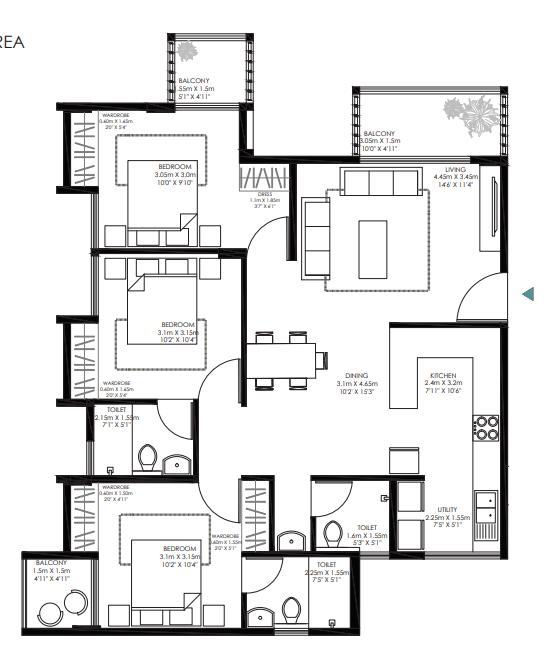Balcony: (357, 92, 502, 157), (24, 557, 98, 629), (173, 35, 243, 102)
Bed: (127, 537, 203, 628), (125, 256, 196, 343), (130, 160, 194, 244)
Bedroom: (99, 481, 241, 630), (100, 107, 241, 251), (99, 255, 237, 400)
Dining Room: (250, 319, 389, 419)
Dining table: (246, 319, 337, 405)
Kitchen: (390, 332, 501, 471)
Living Room: (297, 165, 505, 319)
Sofa: (299, 193, 332, 280), (337, 169, 422, 200)
Wardrobe: (66, 320, 100, 398), (71, 111, 100, 187), (241, 483, 271, 553), (70, 484, 99, 551), (242, 167, 289, 191)
door: (456, 273, 507, 321), (201, 476, 243, 525), (244, 216, 294, 256), (197, 360, 237, 403), (311, 481, 352, 517), (157, 401, 192, 439), (243, 558, 278, 593)
dress: (239, 164, 292, 253)
sink: (473, 488, 498, 542), (245, 608, 276, 631), (161, 454, 191, 474), (278, 529, 306, 549)
stove: (472, 413, 499, 440)
toilet: (244, 560, 347, 628), (96, 403, 192, 475), (312, 482, 389, 549)
tv: (479, 167, 504, 252)
utility: (400, 486, 499, 558)
